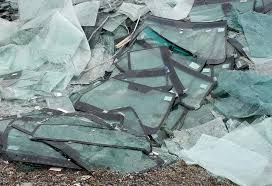glass: (2, 127, 158, 177), (71, 75, 177, 134), (135, 8, 230, 64), (28, 120, 156, 152), (122, 45, 180, 72)
plastic: (184, 132, 268, 184)
